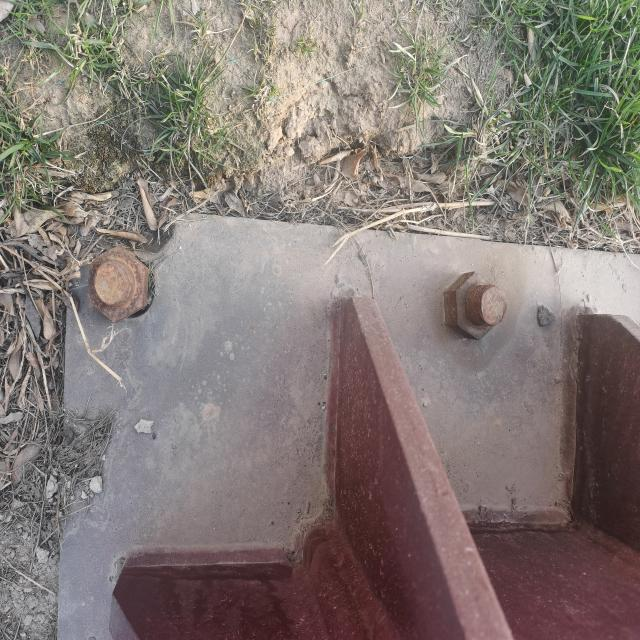bolt nut: (85, 241, 152, 328), (441, 267, 504, 344)
